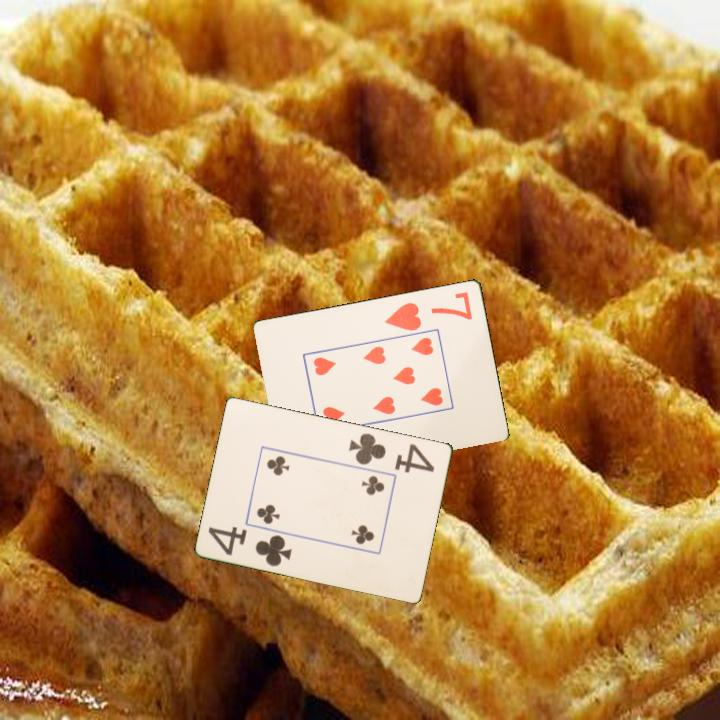4c: (346, 429, 438, 476), (205, 523, 295, 569)
7h: (381, 288, 475, 333)
